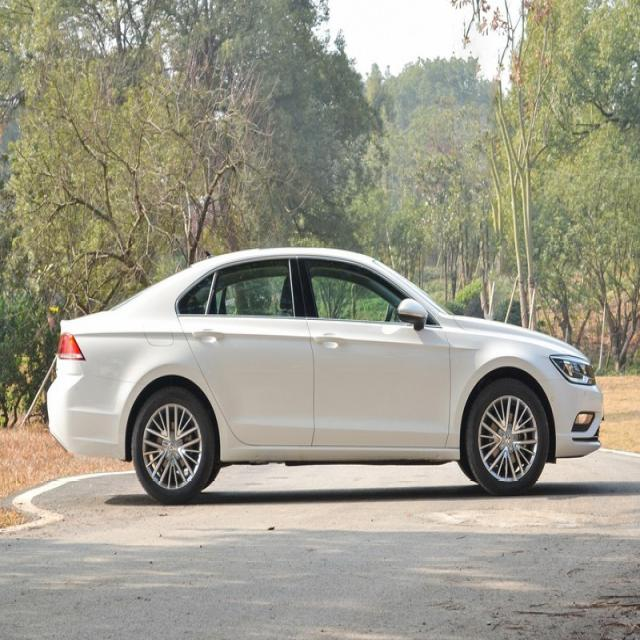back_right_side_light: (57, 332, 85, 362)
door: (175, 256, 316, 454)
front_bumper: (550, 379, 605, 459)
front_right_side_door: (296, 250, 454, 456)
front_right_side_light: (548, 352, 596, 388)
front_right_side_mirror: (395, 294, 428, 338)
rear_bumper: (46, 368, 136, 462)
wheel: (468, 374, 549, 494), (132, 386, 213, 501)
